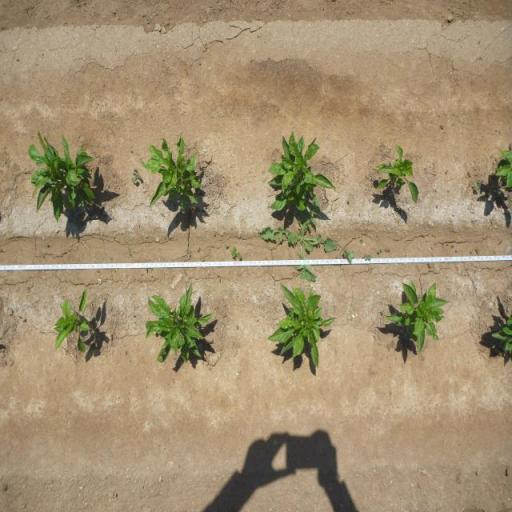plant: (25, 126, 100, 224), (264, 282, 339, 369), (144, 280, 215, 368), (268, 129, 338, 211), (142, 134, 205, 214), (384, 278, 450, 354), (50, 286, 94, 356), (372, 142, 417, 202), (489, 310, 512, 353)
weed: (258, 203, 339, 285), (340, 244, 356, 262), (130, 168, 142, 186), (231, 246, 243, 260), (472, 182, 481, 192), (361, 252, 371, 260), (384, 247, 392, 254), (224, 242, 230, 250), (377, 248, 383, 254), (474, 248, 480, 254), (380, 308, 384, 316), (418, 154, 423, 160), (359, 237, 363, 243), (427, 262, 431, 268), (235, 324, 239, 330)
